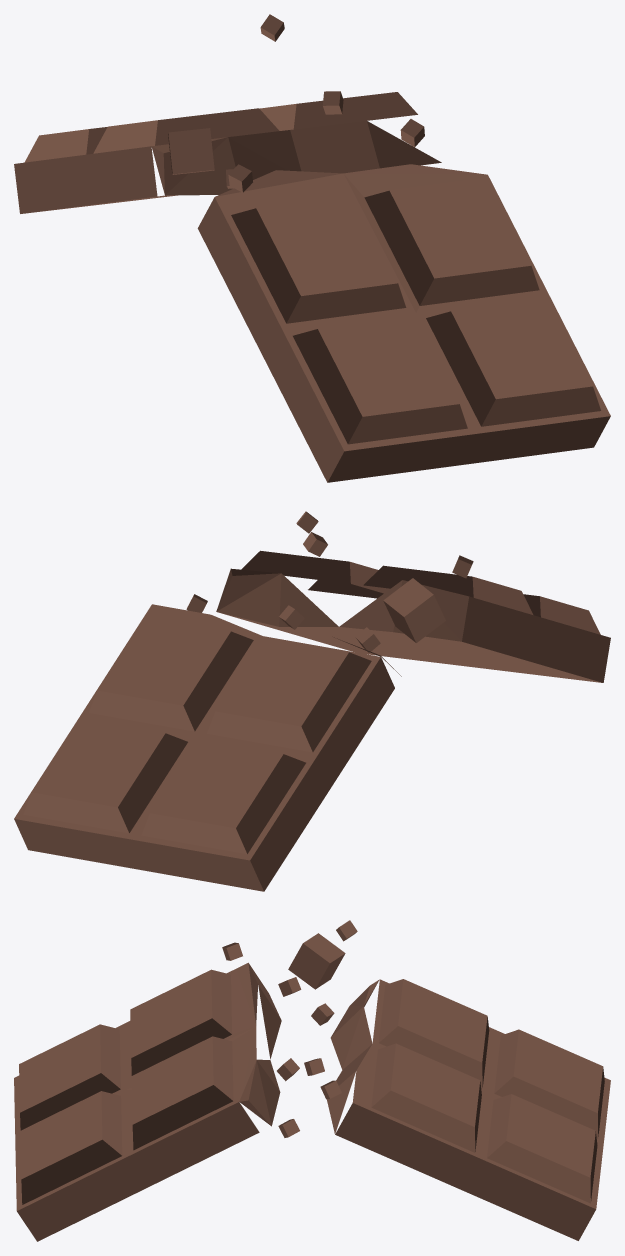
File: Chocolate Bar Break by Jarlan Perez - 1uM2_bbUkeB.glb
3 renders of one model, top to bottom at view 1: azimuth 30°, elevation 25°; view 2: azimuth 150°, elevation 25°; view 3: azimuth 270°, elevation 25°, orthographic. The views are drawn at different scales.
Parts seen in each view (by area): view 1: Node; view 2: Node; view 3: Node.
Part boxes in pixels (x1=…): Node: x1=14, y1=14, x2=610, y2=482; Node: x1=14, y1=511, x2=610, y2=891; Node: x1=14, y1=920, x2=610, y2=1241.
Bounding box in the file's own units: 0.4193 × 0.4279 × 0.8628.
